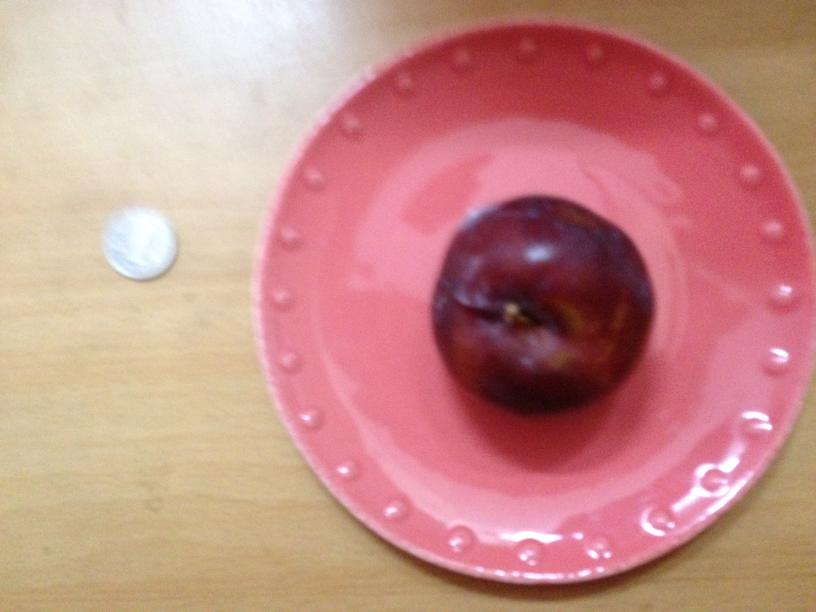coin: (103, 212, 178, 279)
plum: (426, 196, 654, 409)
